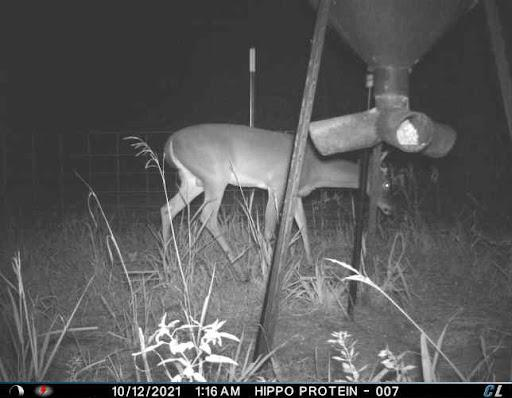Deer: (154, 114, 396, 289)
